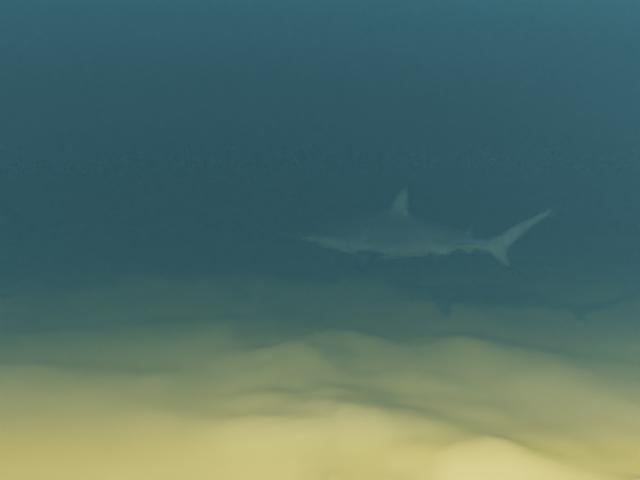Carribean Shark.001: (300, 185, 563, 273)
